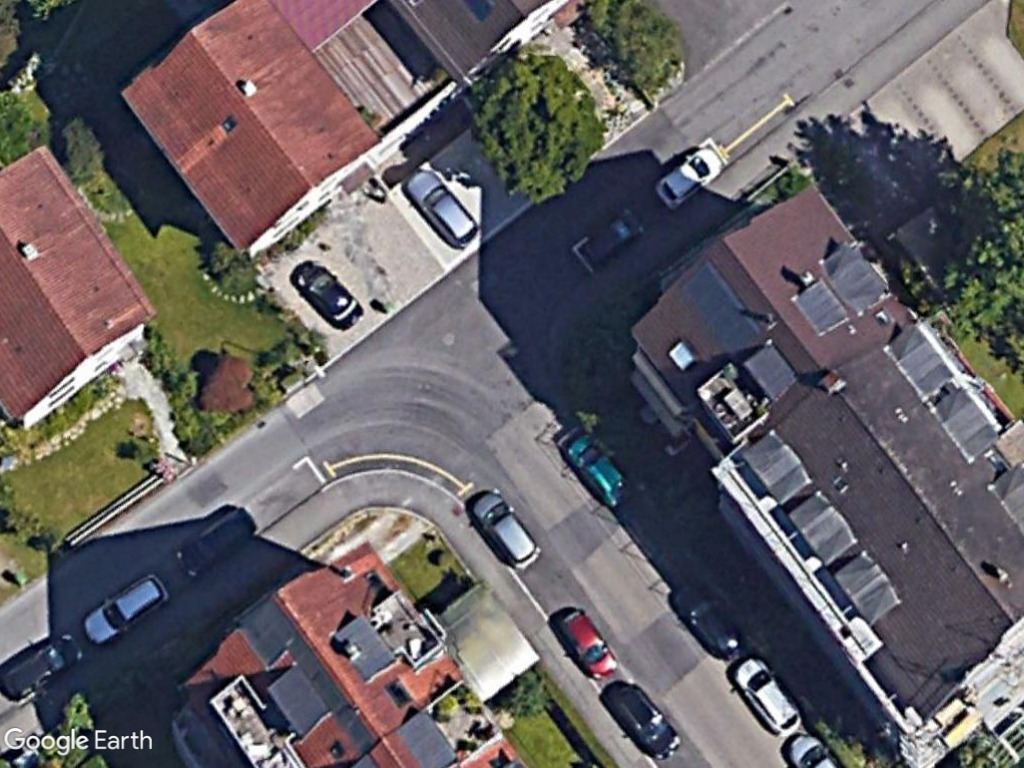car: (399, 168, 484, 252), (79, 569, 169, 648), (469, 487, 544, 572), (732, 657, 806, 738), (563, 433, 634, 510), (292, 260, 366, 330), (649, 145, 726, 209), (555, 606, 618, 683)
